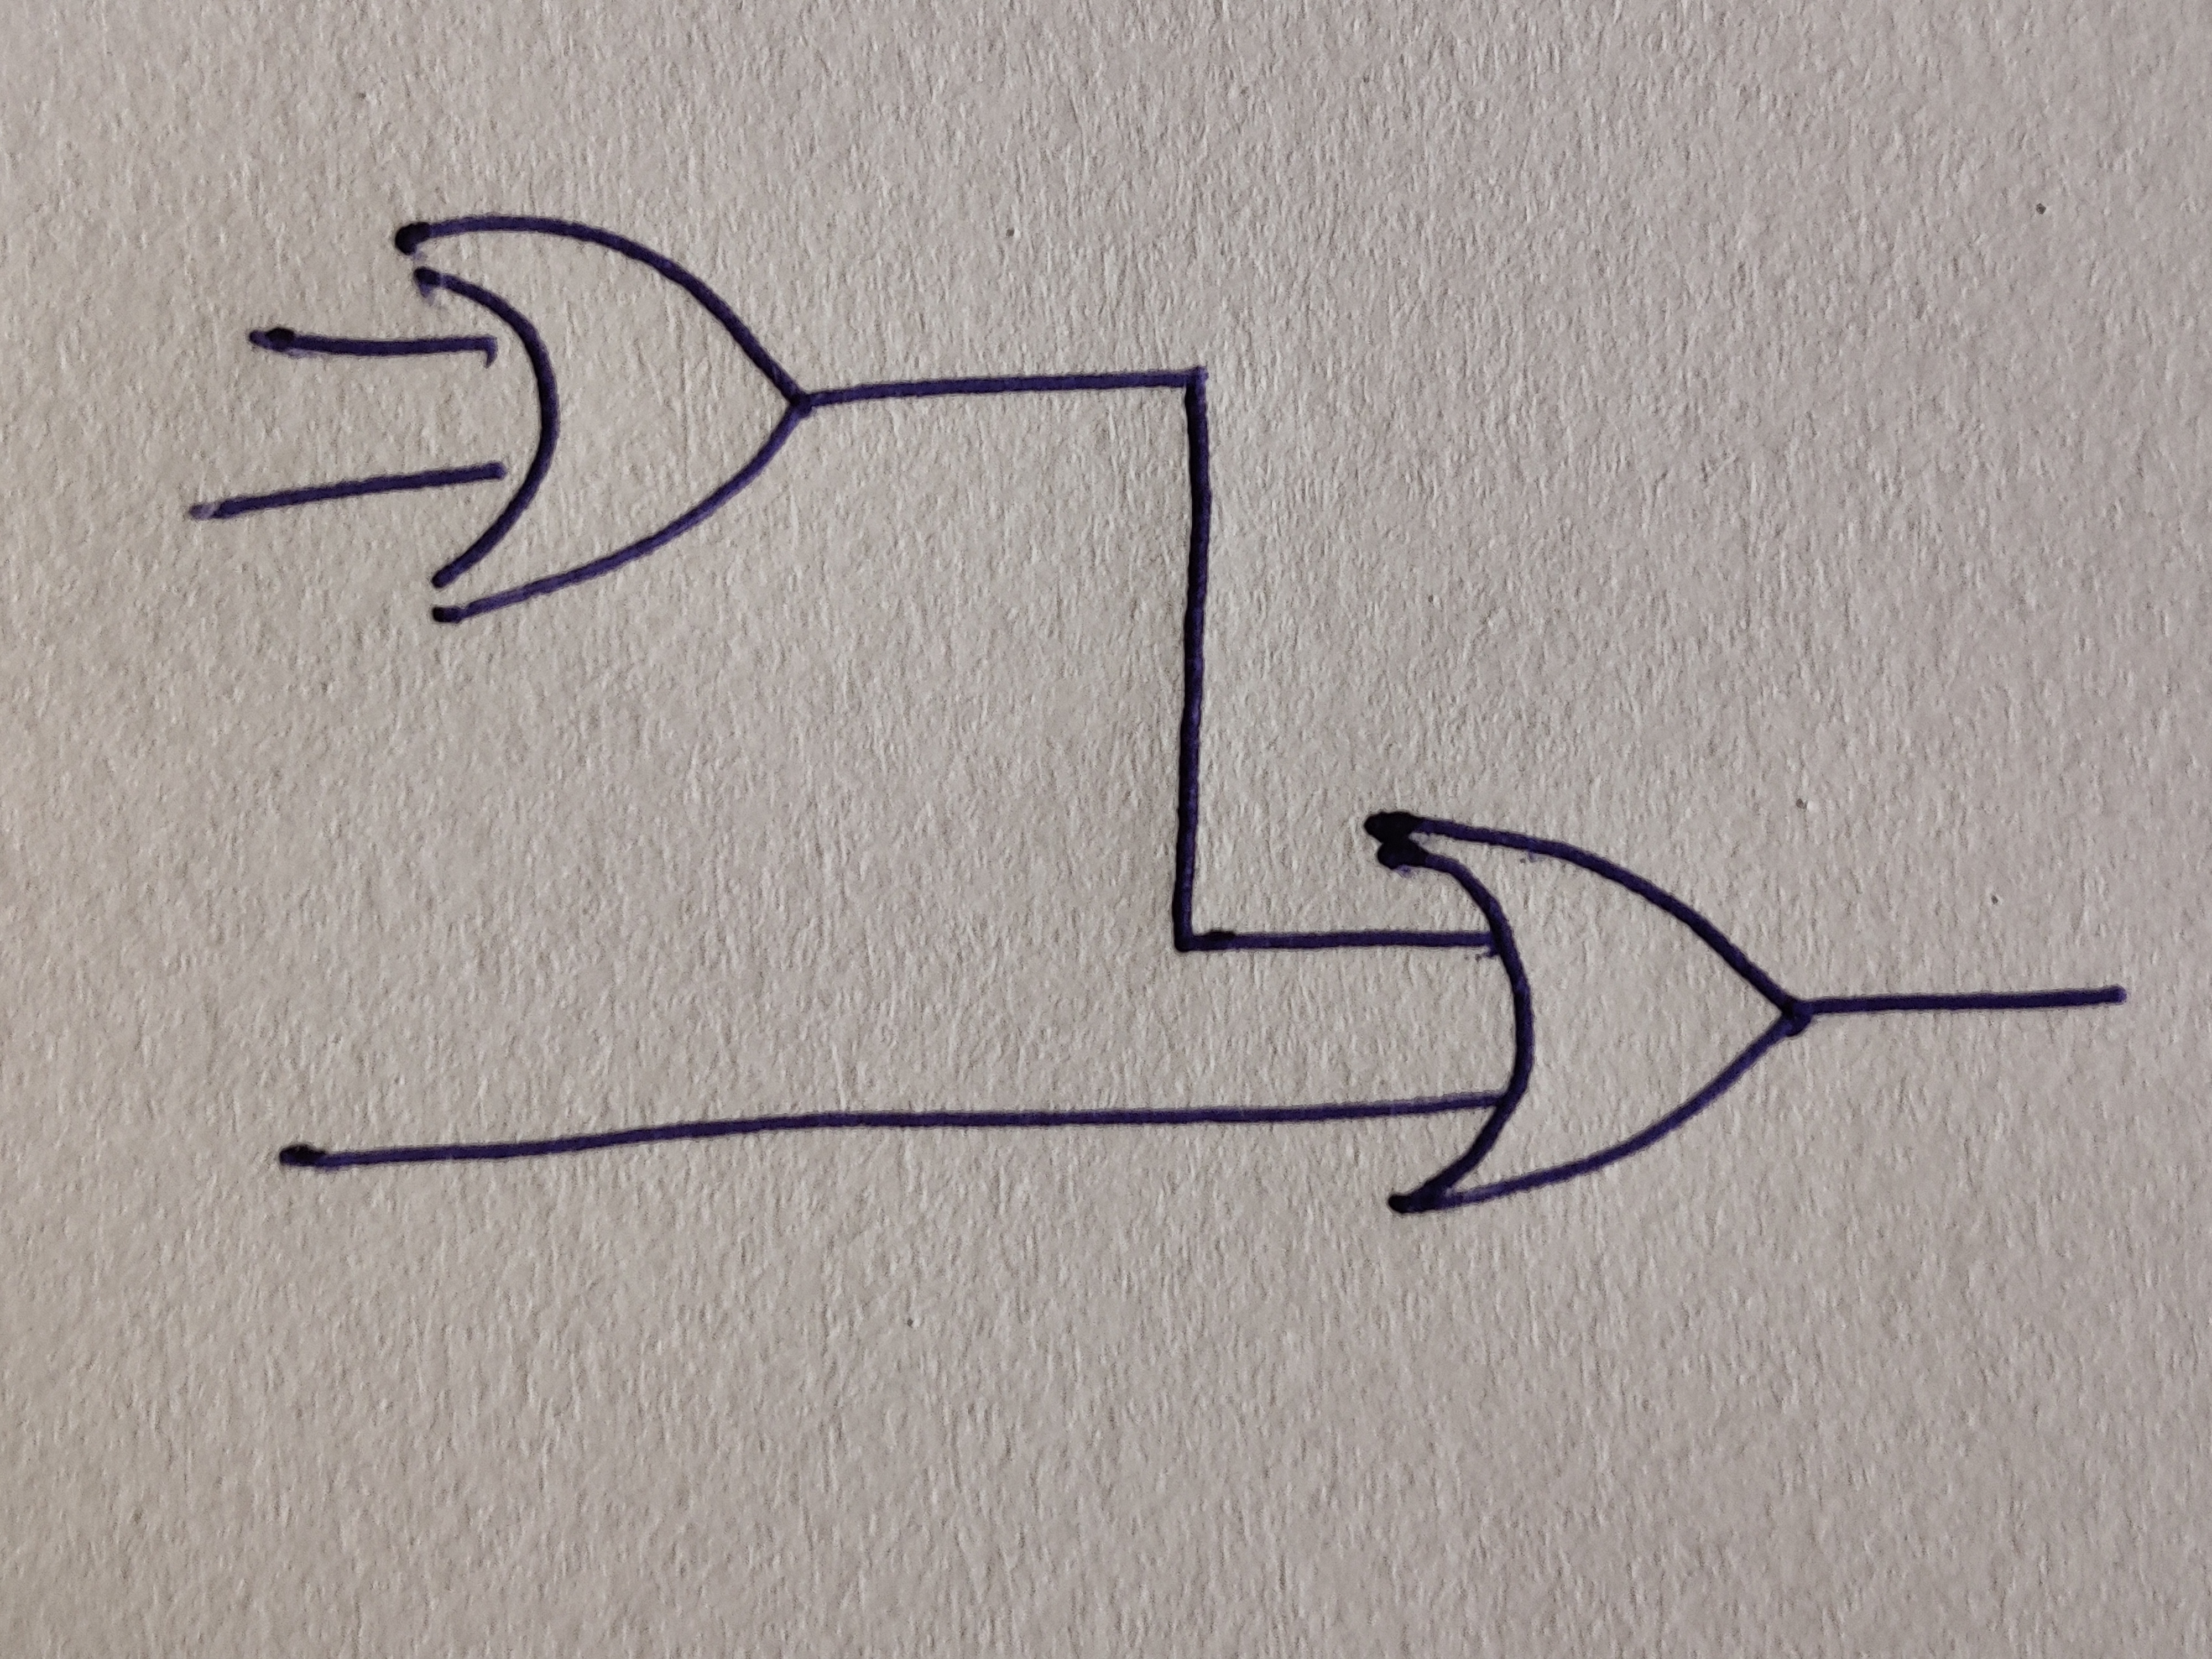or: (1362, 810, 1813, 1215), (395, 214, 808, 624)
